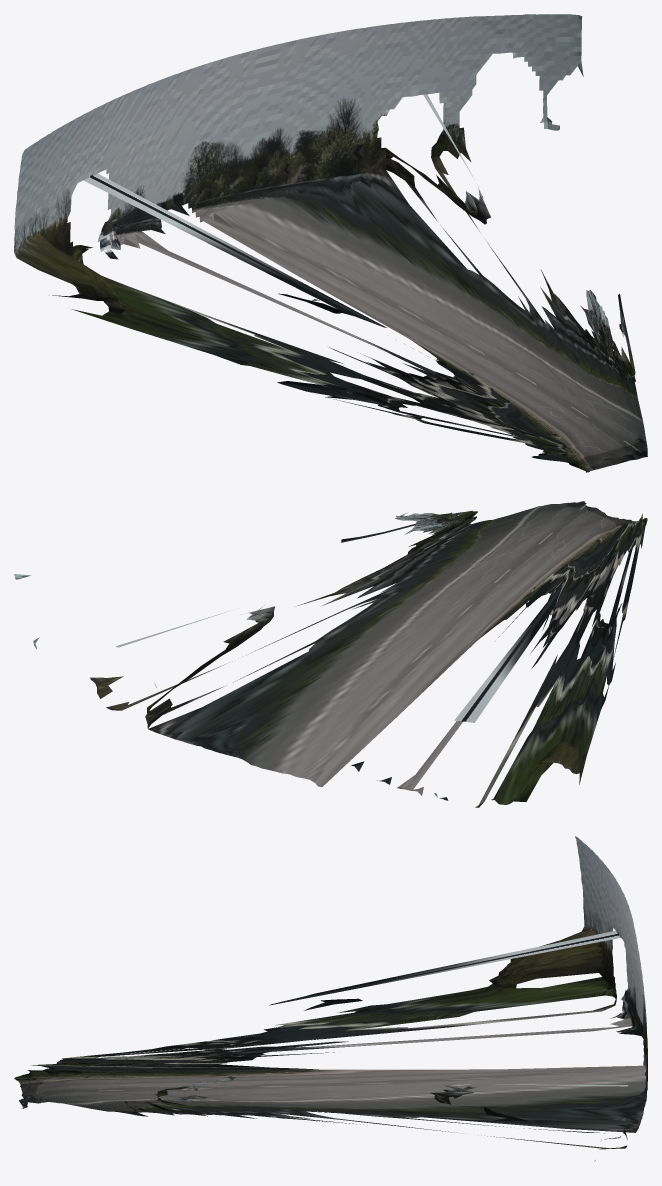
The picture shows the model from 3 angles, top to bottom: view 1: azimuth 30°, elevation 25°; view 2: azimuth 150°, elevation 25°; view 3: azimuth 270°, elevation 25°; orthographic projection. The views are drawn at different scales.
Visible parts, largest first — view 1: defaultobject; view 2: defaultobject; view 3: defaultobject.
Boxes of the visible parts, left/top/right/bottom form: defaultobject: left=14, top=14, right=647, bottom=472; defaultobject: left=14, top=501, right=647, bottom=807; defaultobject: left=14, top=836, right=647, bottom=1161.
Bounding box in the file's own units: 41 × 11.68 × 44.82.
1 material, 1 textured.
